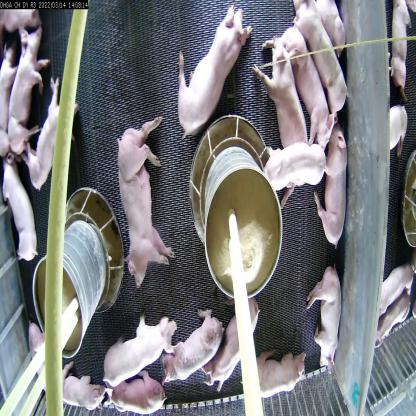Pig: (101, 122, 174, 285), (177, 0, 247, 135), (280, 25, 340, 155), (0, 152, 51, 287), (292, 1, 350, 119), (253, 34, 308, 154), (207, 298, 268, 398), (8, 15, 49, 155), (101, 309, 180, 379), (26, 76, 73, 193), (258, 130, 326, 198), (310, 264, 349, 381), (157, 307, 220, 377), (20, 297, 62, 392), (316, 130, 350, 247), (249, 335, 300, 405), (110, 365, 172, 411), (59, 361, 103, 402)
